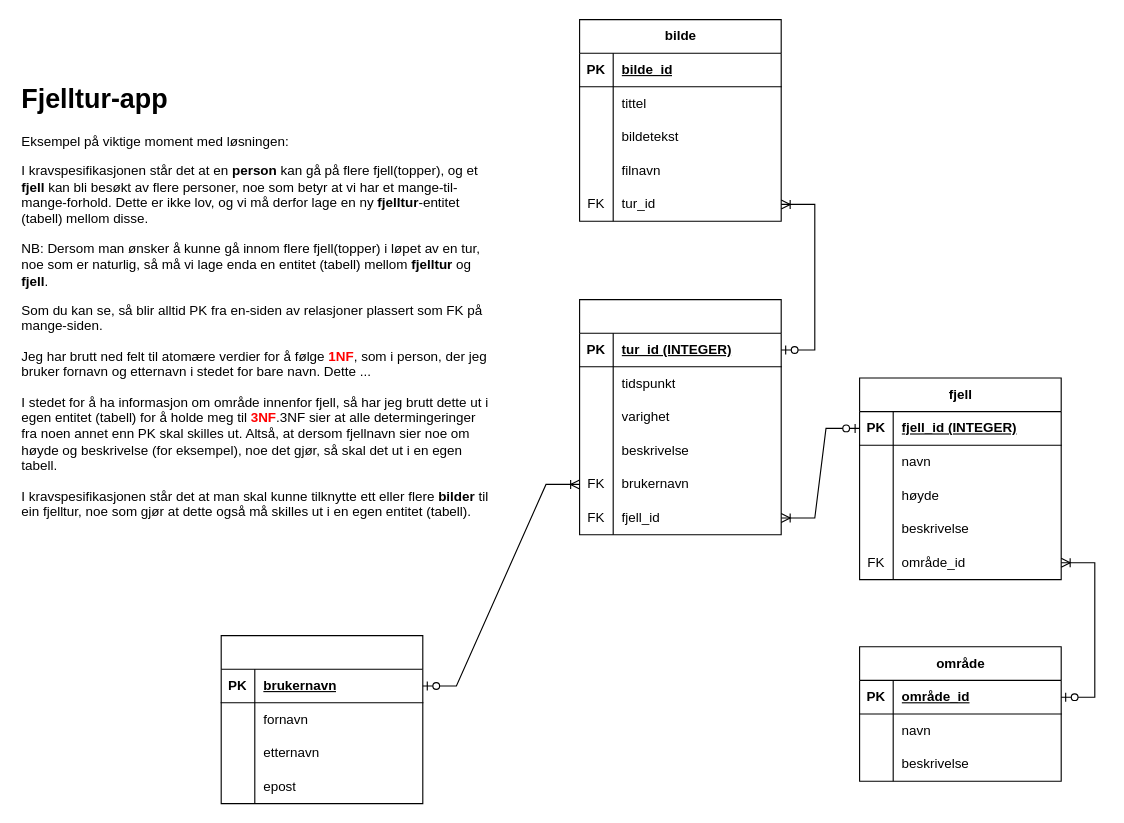
Some shapes in this 1124 by 823 pixel diagram are drawn without their labels. Here are the shapes that lost their labels. From the top down, the box of each, then its label:
(578, 298, 781, 535): fjelltur
(220, 634, 423, 804): person
